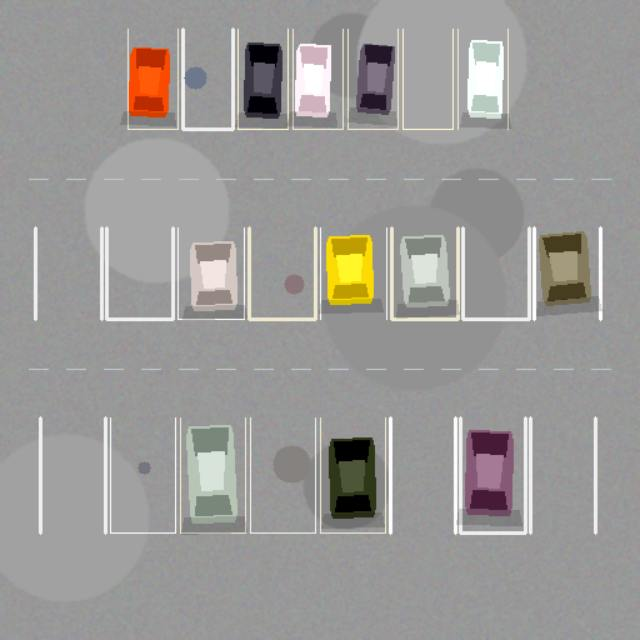space-empty: (40, 418, 105, 533), (110, 418, 175, 533), (250, 418, 315, 533), (390, 418, 455, 533), (530, 418, 595, 533), (462, 228, 529, 319), (35, 228, 101, 319), (106, 228, 172, 319), (249, 228, 315, 319), (183, 29, 233, 129), (403, 29, 453, 129)
space-occupied: (180, 418, 245, 533), (320, 418, 385, 533), (460, 418, 525, 533), (391, 228, 458, 319), (178, 228, 244, 319), (320, 228, 386, 319), (534, 228, 600, 319), (127, 29, 177, 129), (237, 29, 287, 129), (293, 29, 343, 129), (347, 29, 397, 129), (457, 29, 507, 129)
